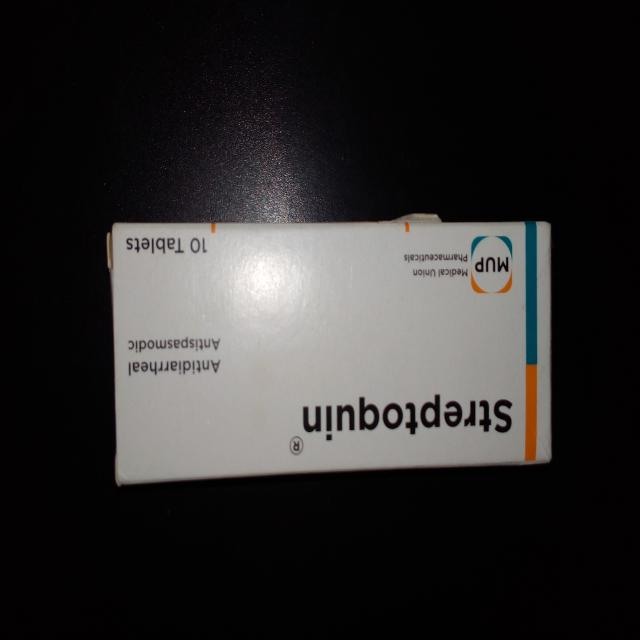Medicine: (106, 210, 556, 480)
